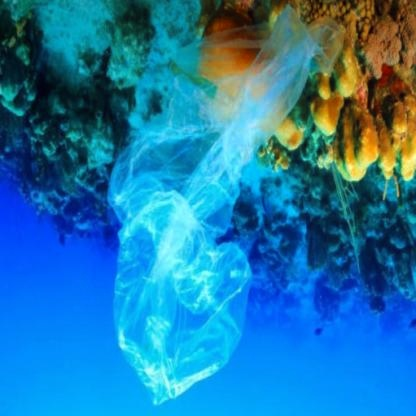plastic: (111, 40, 291, 382)
